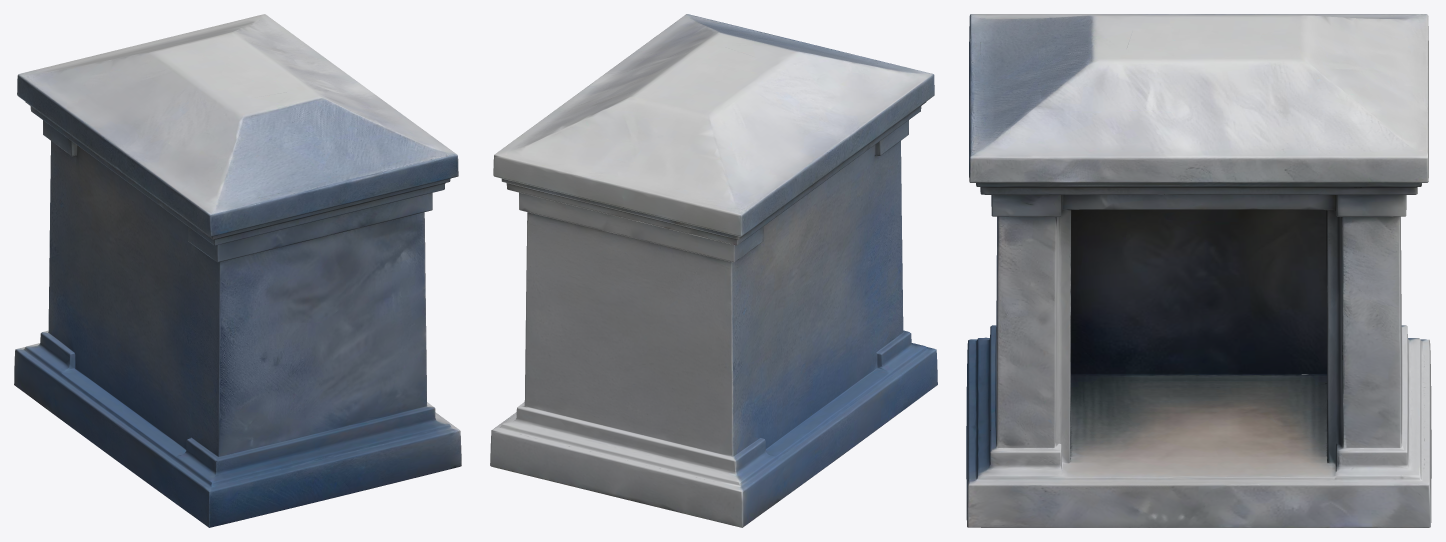
Rendered from tomb2.fbx.
3 renders of one model, left to right at view 1: azimuth 30°, elevation 25°; view 2: azimuth 150°, elevation 25°; view 3: azimuth 270°, elevation 25°, orthographic. The views are drawn at different scales.
Parts seen in each view (by area): view 1: tripo_node_cb9f8961; view 2: tripo_node_cb9f8961; view 3: tripo_node_cb9f8961.
Part boxes in pixels (x1,y1,x2,y2): tripo_node_cb9f8961: [14, 14, 461, 527]; tripo_node_cb9f8961: [490, 14, 937, 527]; tripo_node_cb9f8961: [966, 14, 1431, 527].
Size of the model in its own units: 0.7473 by 0.9888 by 0.9999.
1 material, 1 textured.
